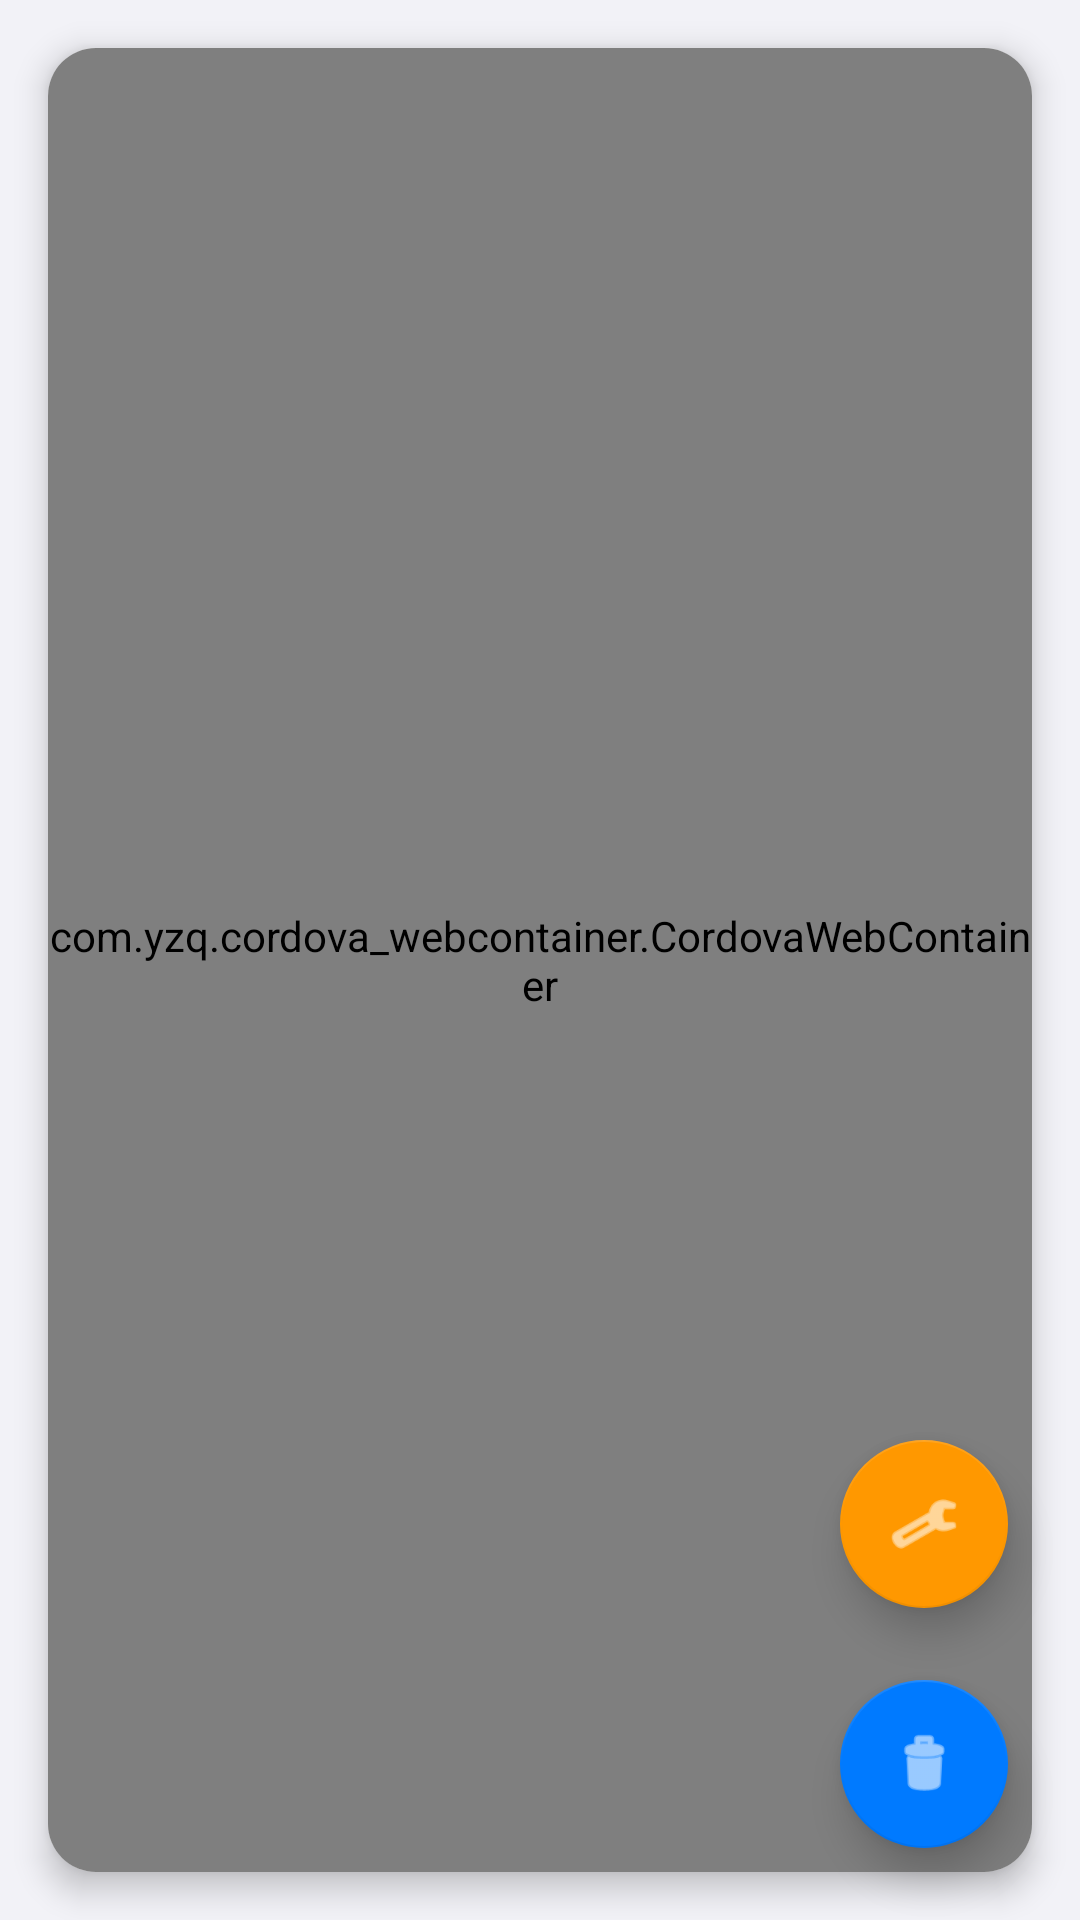

Screen size 1080*1920. Icon name, then its box in pixels as (x1, y1, x2, y2):
清除定位页面记忆: (840, 1680, 1008, 1848)
